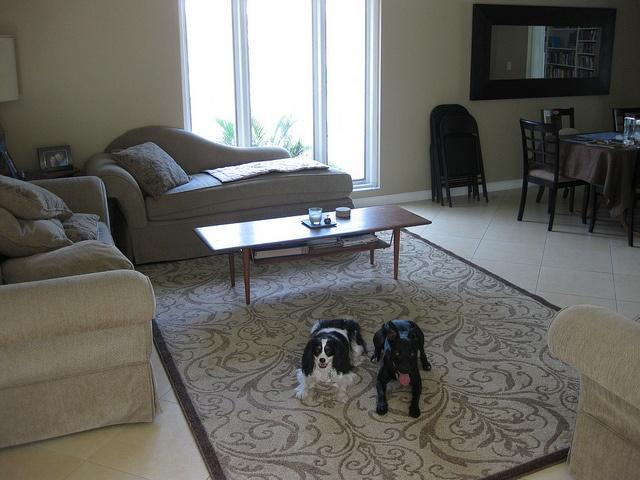Kursi: (516, 116, 589, 232)
Meja: (193, 203, 434, 304)
